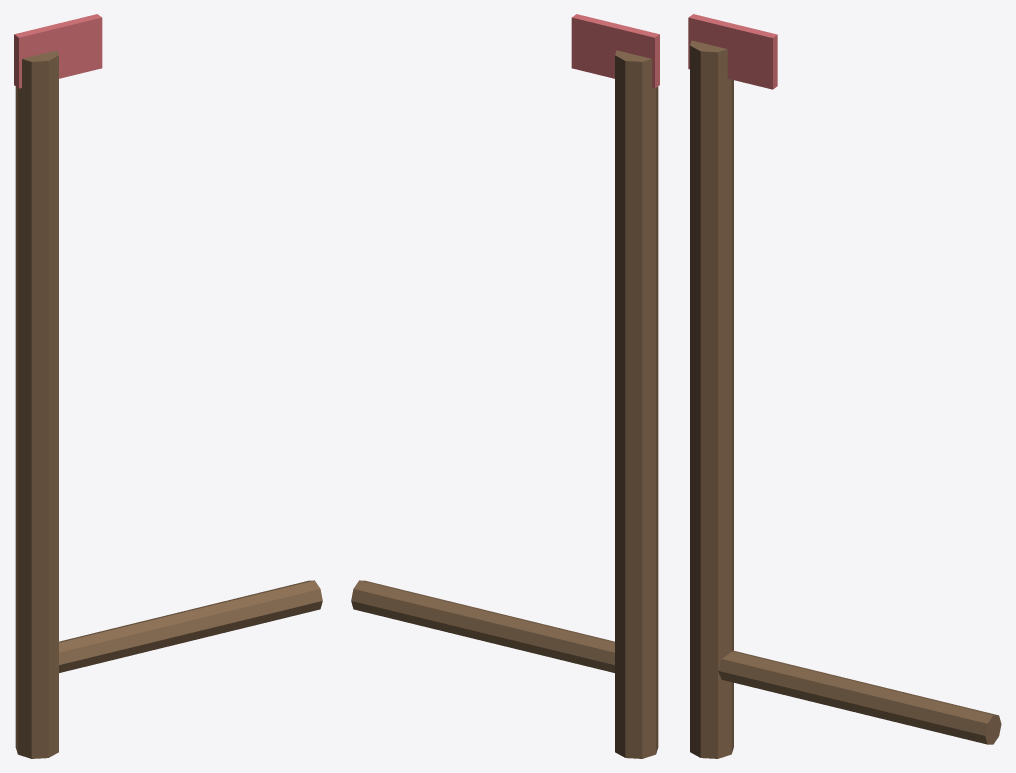
File: toy_boat_mast.glb
3 views of the same model, side by side, from view 1: azimuth 30°, elevation 25°; view 2: azimuth 150°, elevation 25°; view 3: azimuth 330°, elevation 25° (orthographic).
Visible parts, largest first — view 1: Mast, Flag; view 2: Mast, Flag; view 3: Mast, Flag.
Part boxes in pixels (bbox=[...]): Mast: bbox=[15, 50, 322, 758]; Flag: bbox=[14, 14, 102, 88]; Mast: bbox=[351, 50, 658, 758]; Flag: bbox=[571, 14, 659, 88]; Mast: bbox=[690, 40, 1001, 758]; Flag: bbox=[688, 14, 777, 89].
Bounding box in the file's own units: 0.215 × 0.495 × 0.028.
